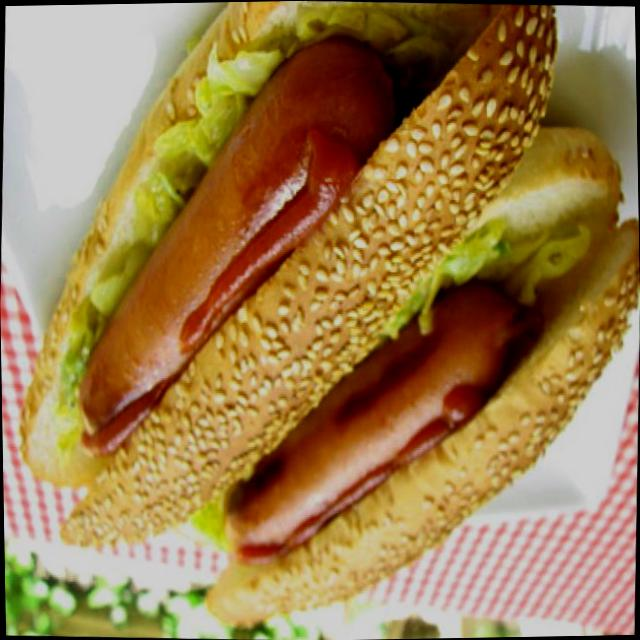Hot Dog: (32, 0, 574, 543), (203, 229, 632, 616)
